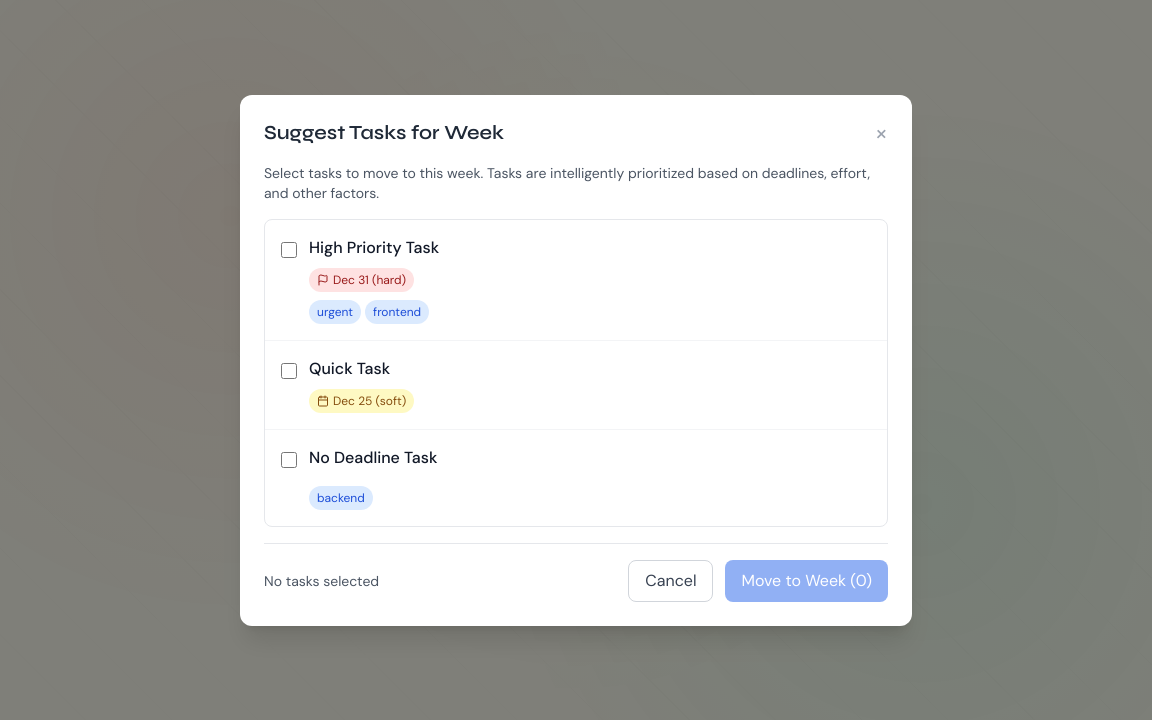
Test: SuggestWeekModal › updates confirm button text with selection count
Expected: the button "Move to Week (0)" is shown, [726,560,888,602]
Expected: the button "Move to Week (0)" is disabled, [726,560,888,602]
Click the checkbox named "Select High Priority Task" at (289, 250), box [281,242,297,258]
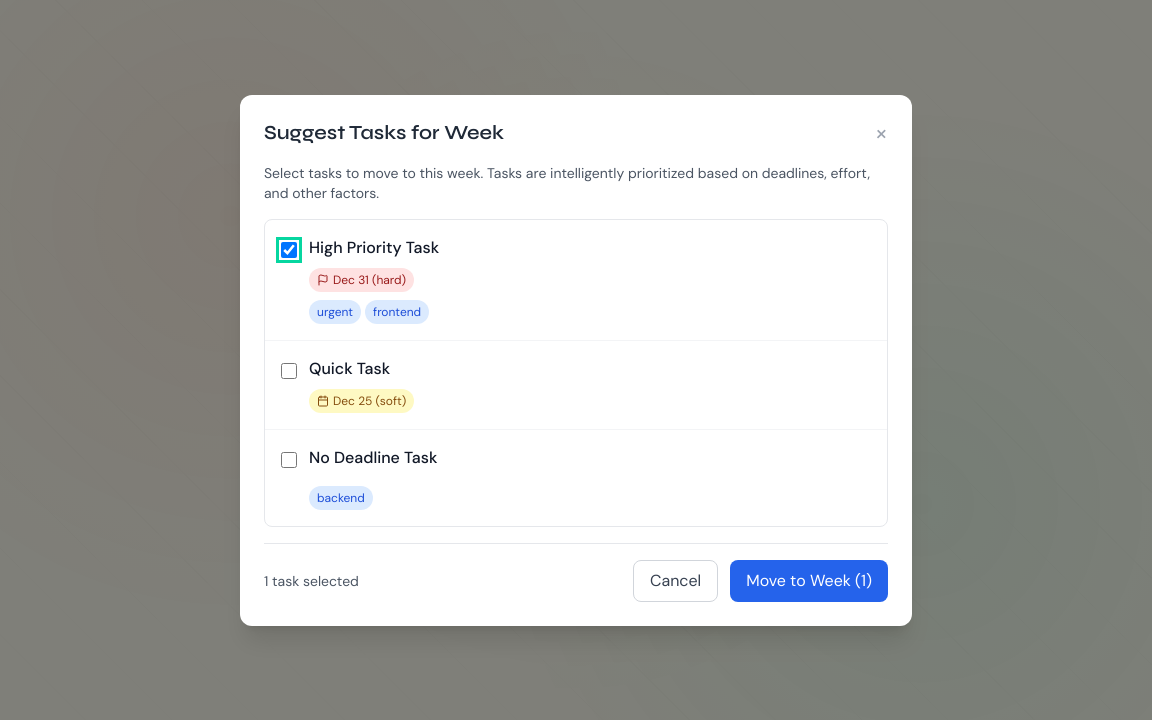
Now the button "Move to Week (1)" is shown, box [730,560,888,602]
Now the button "Move to Week (1)" is enabled, box [730,560,888,602]
